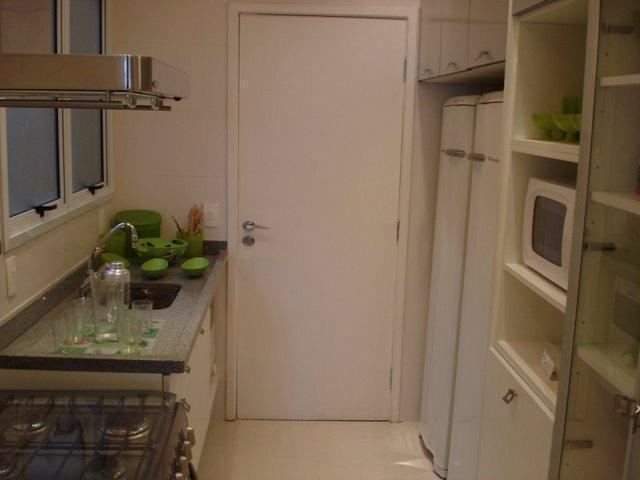Electrodomestico: (429, 97, 490, 477), (2, 382, 195, 479)
Lavaplatos: (76, 215, 177, 311)
Puerta: (229, 8, 398, 421)
Ventana: (7, 9, 111, 213)
